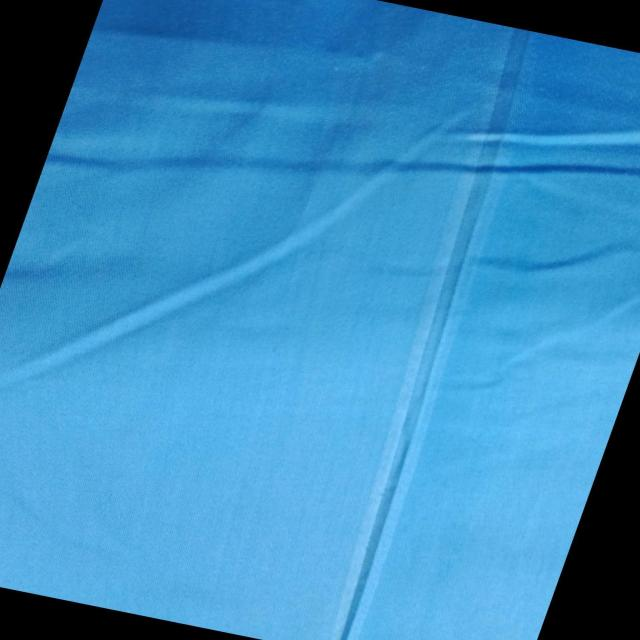selvet: (286, 26, 571, 640)
